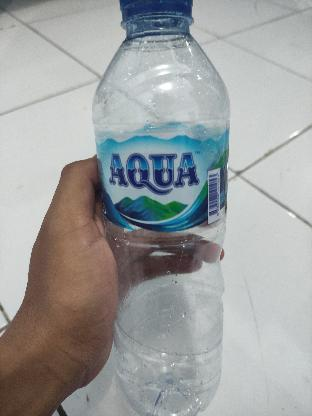Plastic Bottle: (91, 0, 237, 416)
